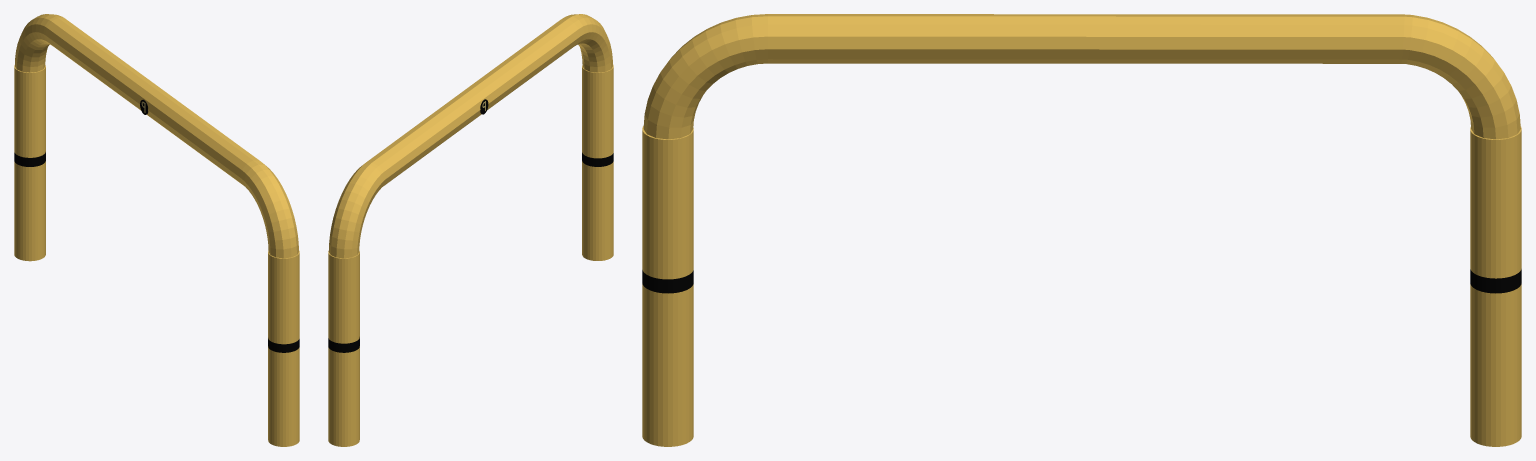
The model's file is alt.geç_1.fbx.
3 renders of one model, left to right at view 1: azimuth 30°, elevation 25°; view 2: azimuth 150°, elevation 25°; view 3: azimuth 270°, elevation 25°, orthographic. The views are drawn at different scales.
Visible parts, largest first — view 1: Plane.001; view 2: Plane.001; view 3: Plane.001.
Boxes of the visible parts, left/top/right/bottom form: Plane.001: left=14, top=14, right=299, bottom=446; Plane.001: left=328, top=14, right=613, bottom=446; Plane.001: left=642, top=14, right=1521, bottom=446.
Size of the model in its own units: 27.47 by 247 by 468.
